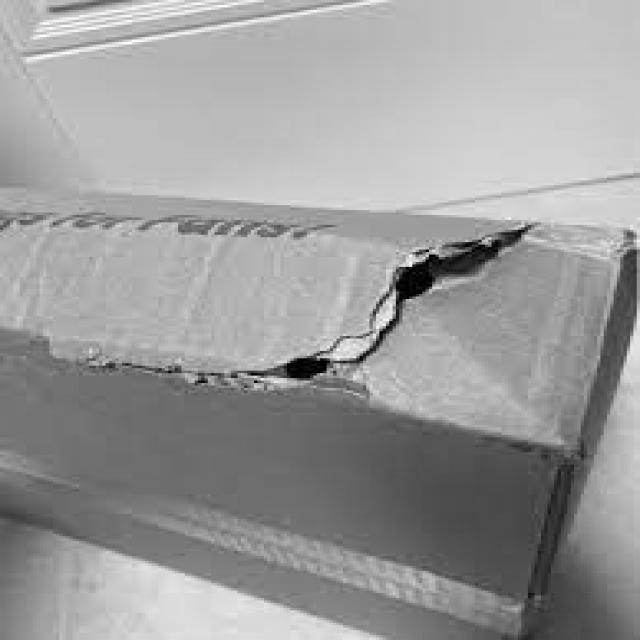hole: (385, 222, 551, 296), (264, 346, 389, 415)
